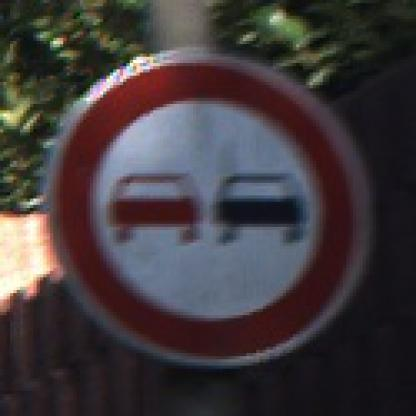No Overtaking: (38, 39, 384, 382)
